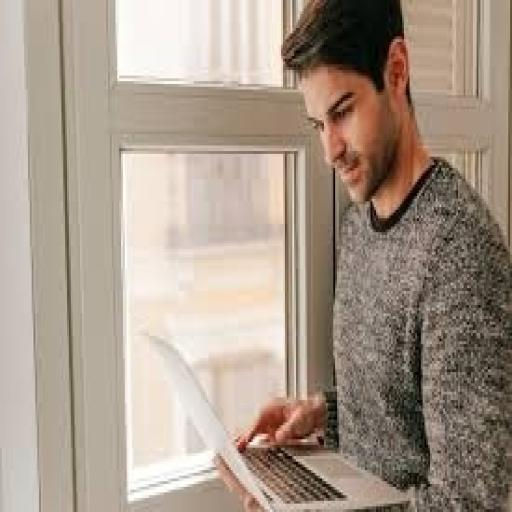using_laptop: (142, 328, 414, 510)
